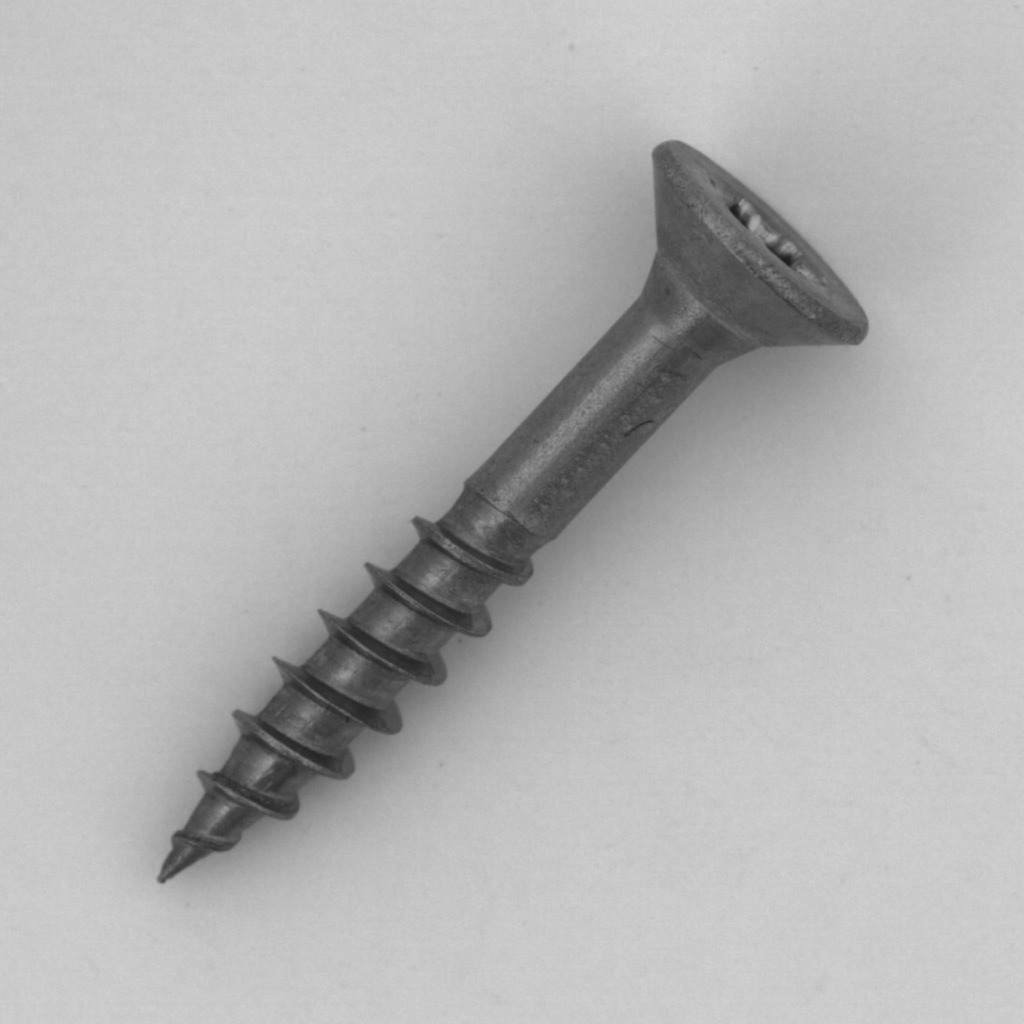good: (124, 128, 905, 896)
